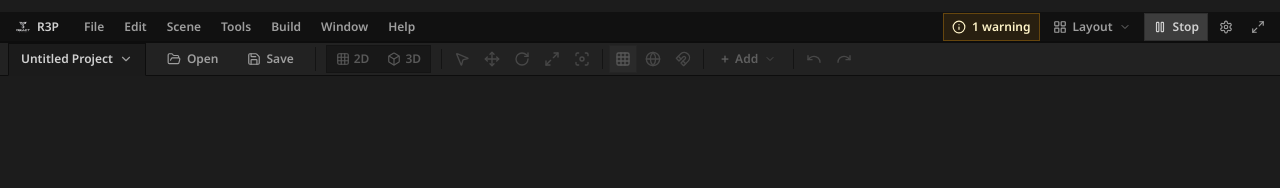
Test: EditorHeader layout selector › locks Scene creation commands while Play Mode is active
This screenshot has width=1280, height=188.
Click the button "Scene" at (184, 26), box [157,12,211,41]
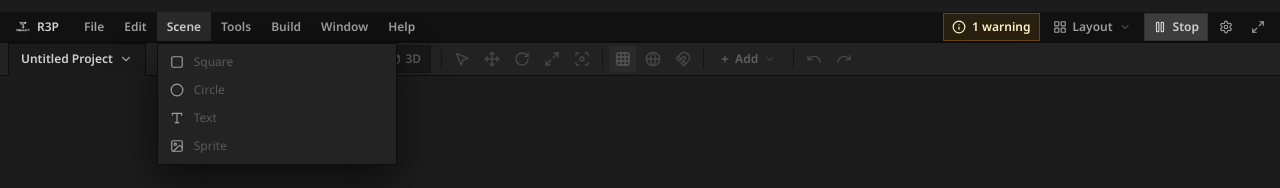
Check: the button "Square" is disabled, box [158,48,396,76]
Check: the button "Sprite" is disabled, box [158,132,396,160]
